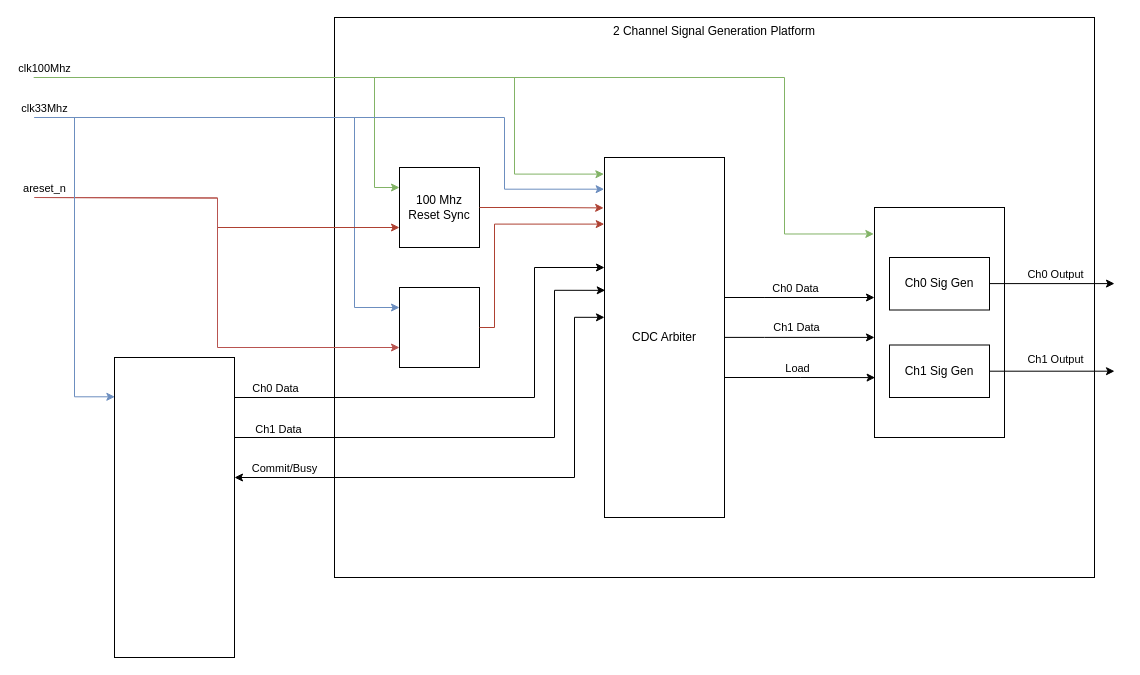
Image size: 1140x675. Some labels were removed from this diagram. Each missing label, with the box of its shape:
2Ch Signal Generator: (874, 206, 1004, 438)
33 Mhz Reset Sync: (398, 286, 480, 368)
Data provider: (114, 356, 234, 658)
